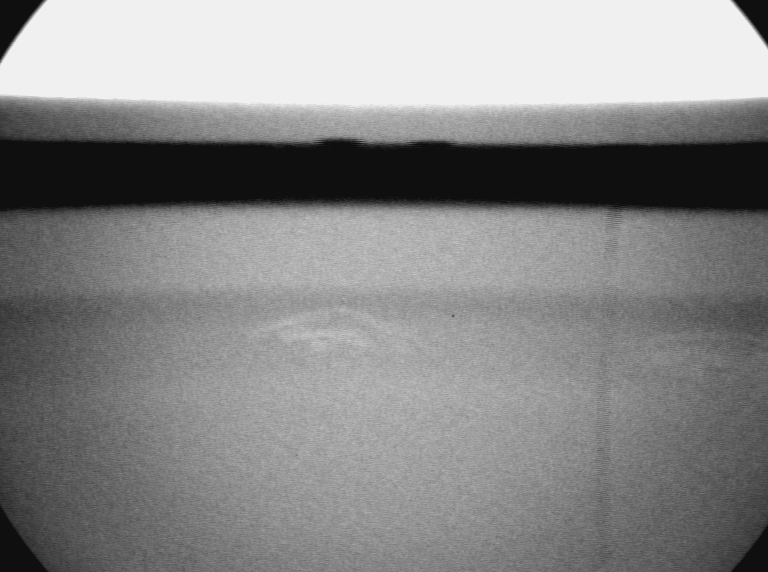defect: (643, 320, 768, 397)
